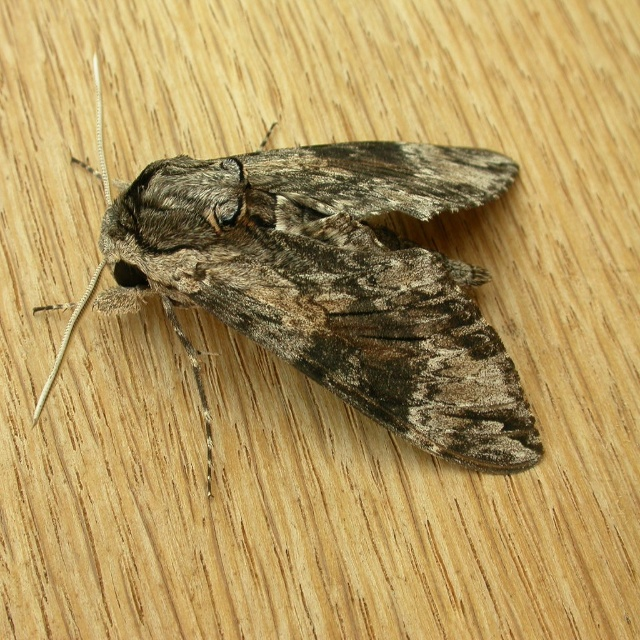Moths and butterflies: (30, 45, 549, 503)
